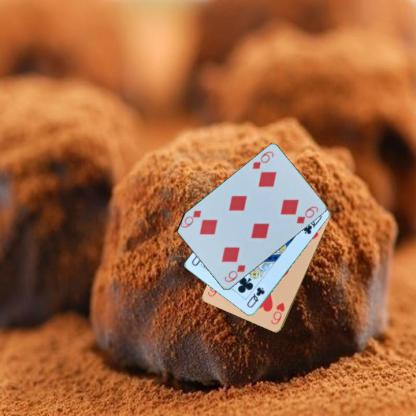6d: (250, 148, 275, 171), (222, 262, 247, 284)
6h: (268, 300, 286, 326)
Qc: (244, 285, 266, 309)
